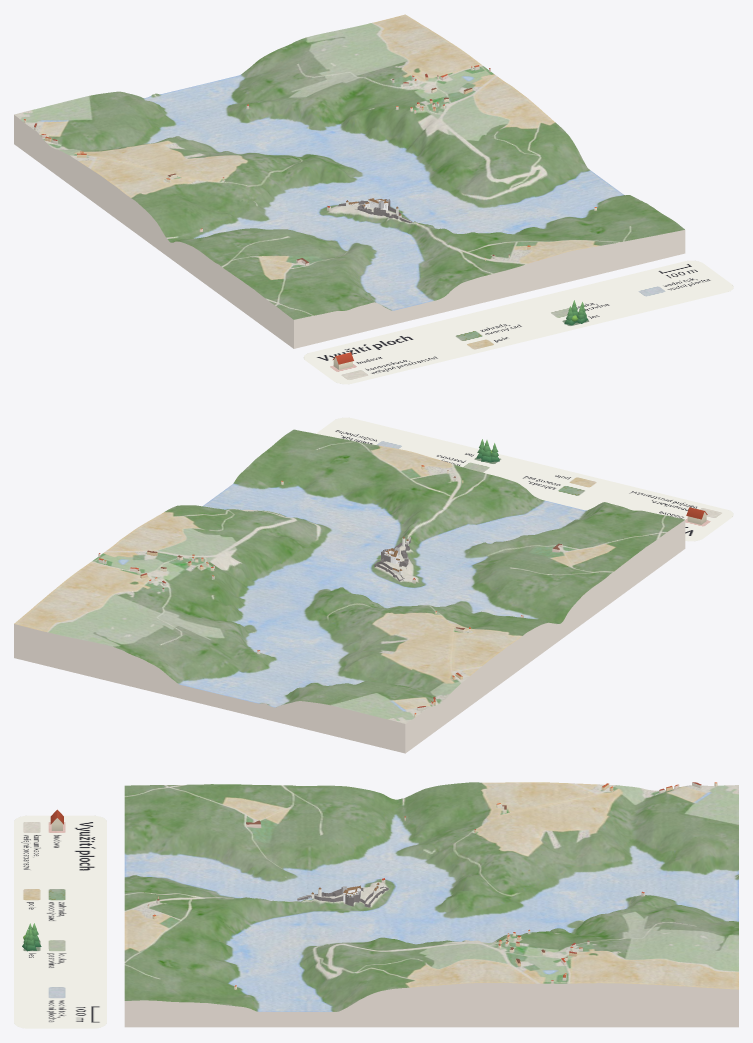
File: Zvikov_base_RUIAN.glb
3 views of the same model, one above another, from view 1: azimuth 30°, elevation 25°; view 2: azimuth 150°, elevation 25°; view 3: azimuth 270°, elevation 25° (orthographic). The views are drawn at different scales.
Visible parts, largest first — view 1: dmr5g, legenda_panel, Zvikov_RUIAN_budovy, Node0, legenda_objekty; view 2: dmr5g, legenda_panel, Zvikov_RUIAN_budovy, Node0, legenda_objekty; view 3: dmr5g, legenda_panel, Zvikov_RUIAN_budovy, Node0, legenda_objekty.
Boxes of the visible parts, bbox=[...] form: dmr5g: bbox=[14, 14, 685, 348]; legenda_panel: bbox=[303, 260, 733, 384]; Zvikov_RUIAN_budovy: bbox=[23, 65, 596, 265]; Node0: bbox=[337, 198, 412, 222]; legenda_objekty: bbox=[333, 300, 588, 369]; dmr5g: bbox=[14, 429, 685, 753]; legenda_panel: bbox=[316, 417, 733, 541]; Zvikov_RUIAN_budovy: bbox=[98, 465, 562, 717]; Node0: bbox=[374, 536, 411, 581]; legenda_objekty: bbox=[476, 439, 707, 524]; dmr5g: bbox=[124, 782, 738, 1027]; legenda_panel: bbox=[14, 815, 106, 1028]; Zvikov_RUIAN_budovy: bbox=[147, 782, 717, 989]; Node0: bbox=[297, 882, 388, 907]; legenda_objekty: bbox=[22, 809, 63, 951].
Bounding box in the file's own units: 1490 × 155 × 2141.
Materials: 4 (2 with a texture image).
